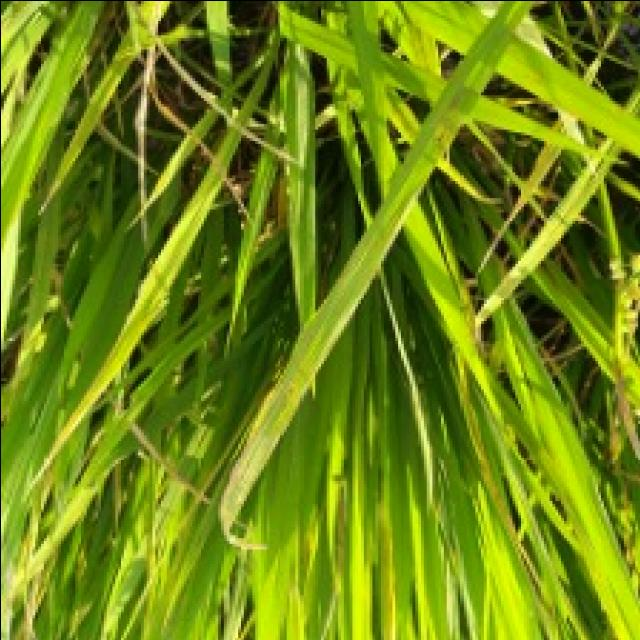Unhealthy: (219, 267, 374, 549), (382, 288, 431, 501), (474, 203, 558, 324), (614, 358, 640, 454)
